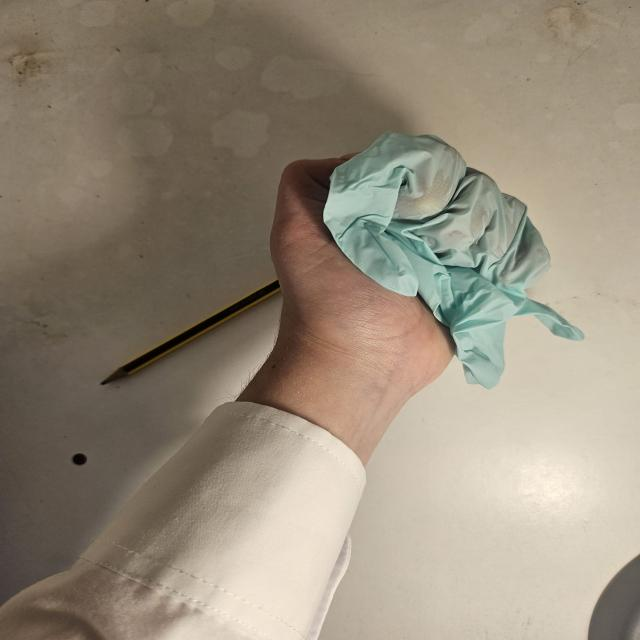glove_partial: (264, 134, 584, 388)
